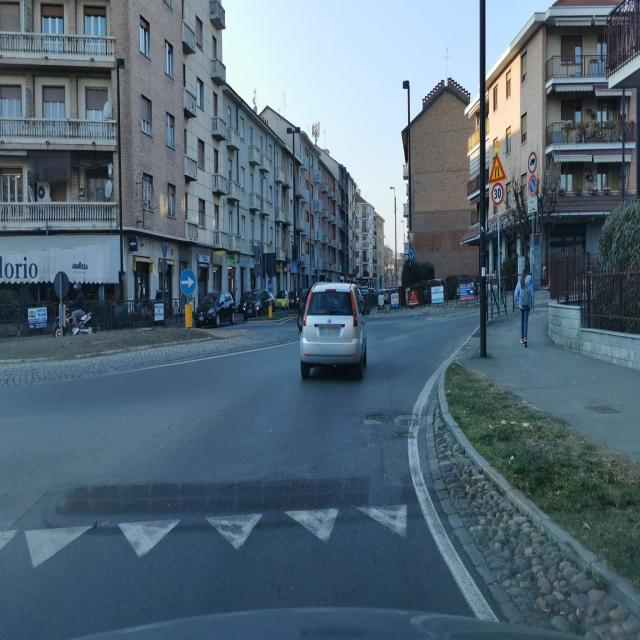forb_stopping: (528, 175, 537, 198)
